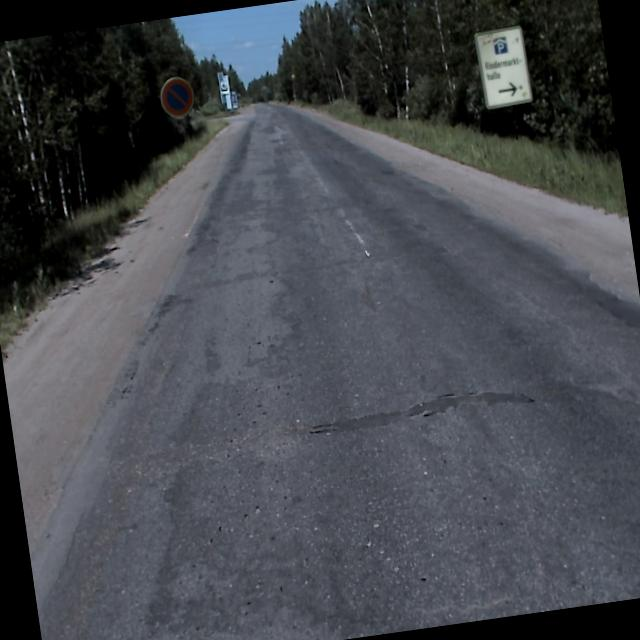road: (30, 101, 640, 640)
